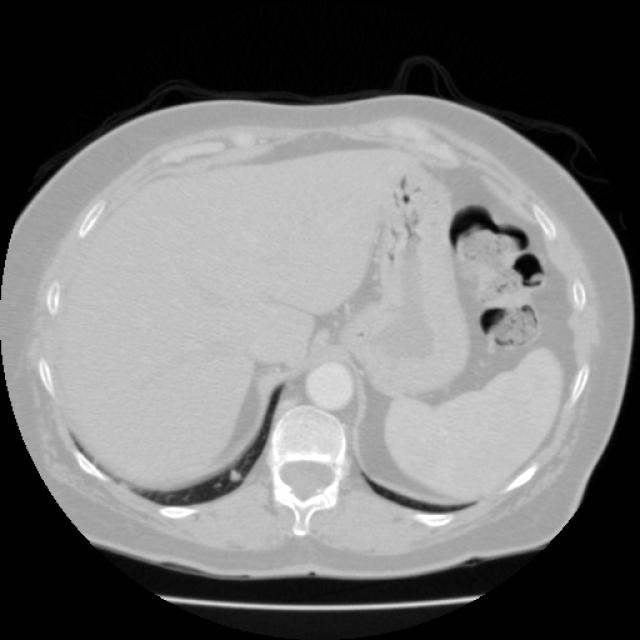nodule: (222, 462, 246, 486)
